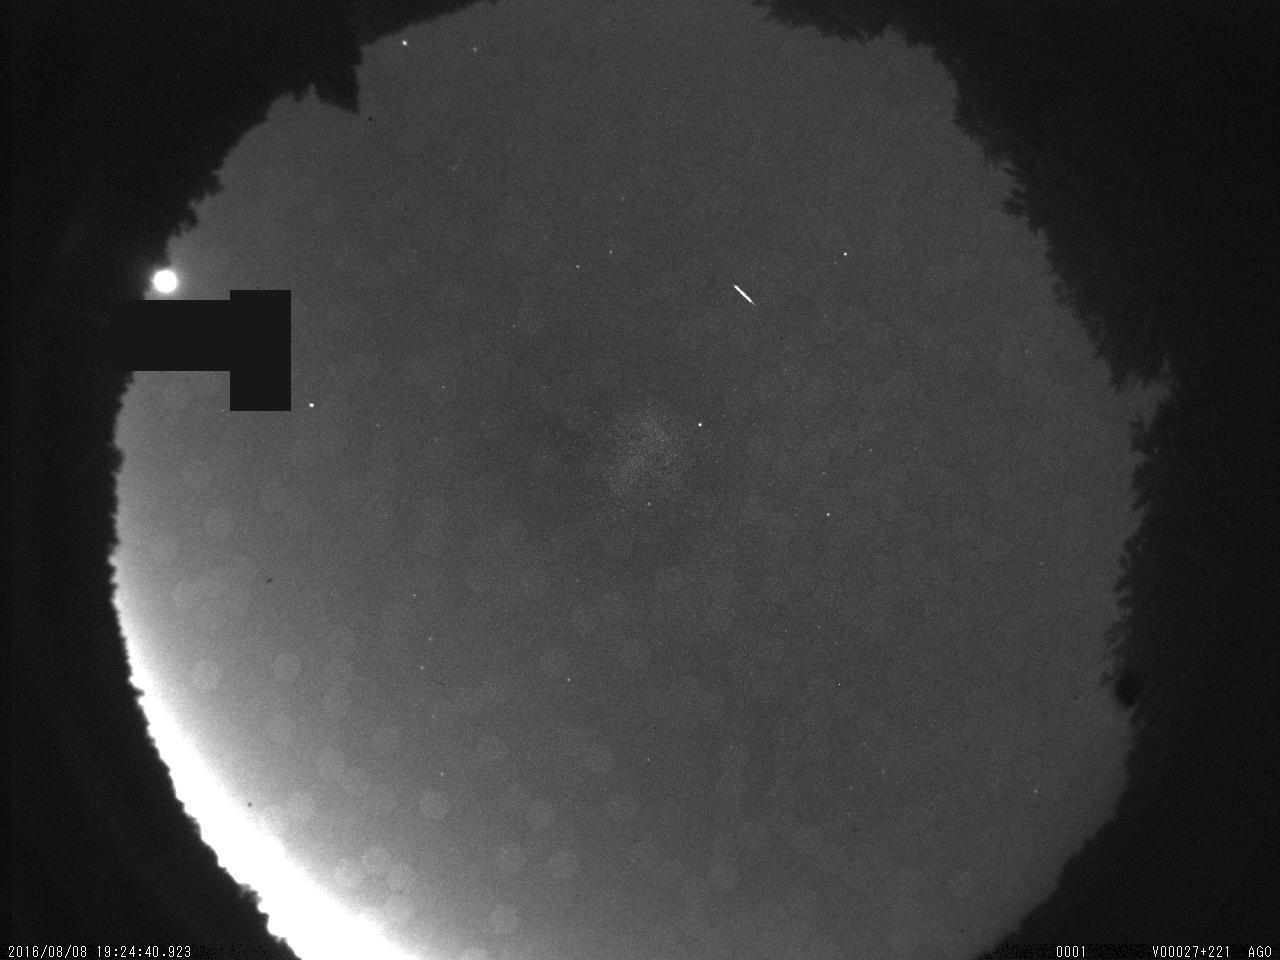meteor: (726, 276, 766, 313)
